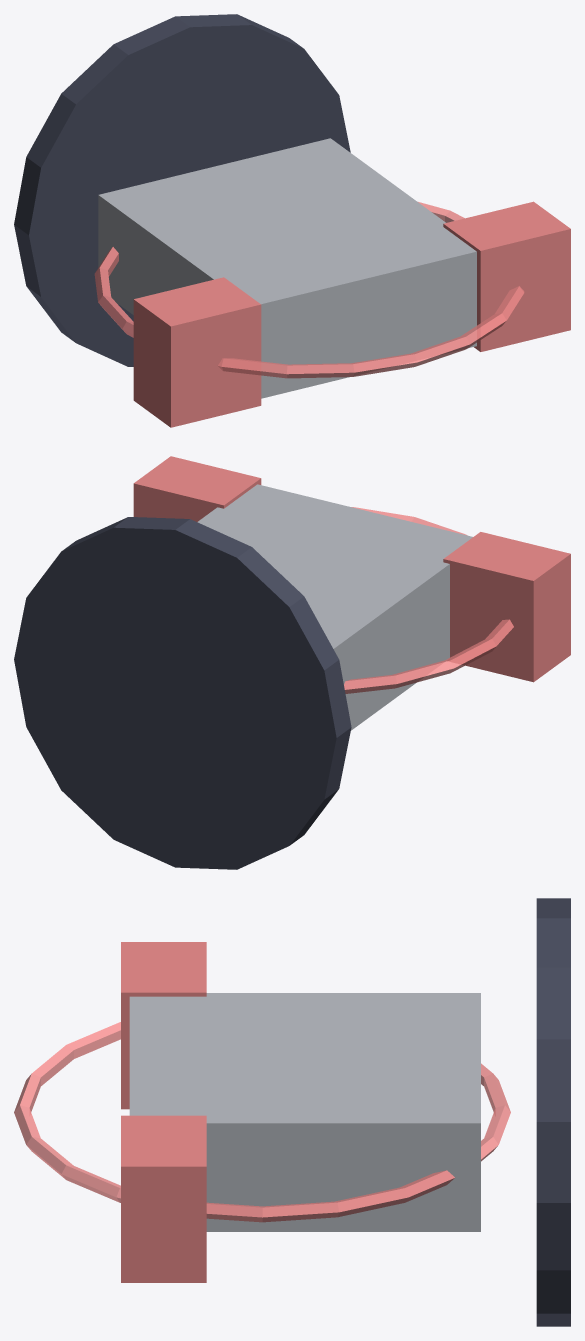
Rendered from 04_high_tier_magic_armor.glb.
The picture shows the model from 3 angles, top to bottom: view 1: azimuth 30°, elevation 25°; view 2: azimuth 150°, elevation 25°; view 3: azimuth 270°, elevation 25°; orthographic projection. The views are drawn at different scales.
Visible parts, largest first — view 1: chest_plate, armor_display_base, pauldron_l, pauldron_r, armor_barrier_ring; view 2: armor_display_base, chest_plate, pauldron_l, pauldron_r, armor_barrier_ring; view 3: chest_plate, armor_display_base, pauldron_r, armor_barrier_ring, pauldron_l.
Boxes of the visible parts, x1=… form: chest_plate: x1=98, y1=138, x2=476, y2=398; armor_display_base: x1=14, y1=14, x2=350, y2=366; pauldron_l: x1=133, y1=277, x2=261, y2=427; pauldron_r: x1=443, y1=201, x2=570, y2=351; armor_barrier_ring: x1=94, y1=202, x2=524, y2=378; armor_display_base: x1=14, y1=517, x2=351, y2=869; chest_plate: x1=197, y1=484, x2=472, y2=730; pauldron_l: x1=443, y1=532, x2=570, y2=682; pauldron_r: x1=133, y1=456, x2=261, y2=521; armor_barrier_ring: x1=344, y1=507, x2=513, y2=693; chest_plate: x1=129, y1=993, x2=480, y2=1231; armor_display_base: x1=536, y1=898, x2=570, y2=1326; pauldron_r: x1=121, y1=1115, x2=206, y2=1282; armor_barrier_ring: x1=14, y1=1022, x2=510, y2=1222; pauldron_l: x1=121, y1=942, x2=206, y2=1109.
Size of the model in its own units: 1.24 by 1 by 1.3.
